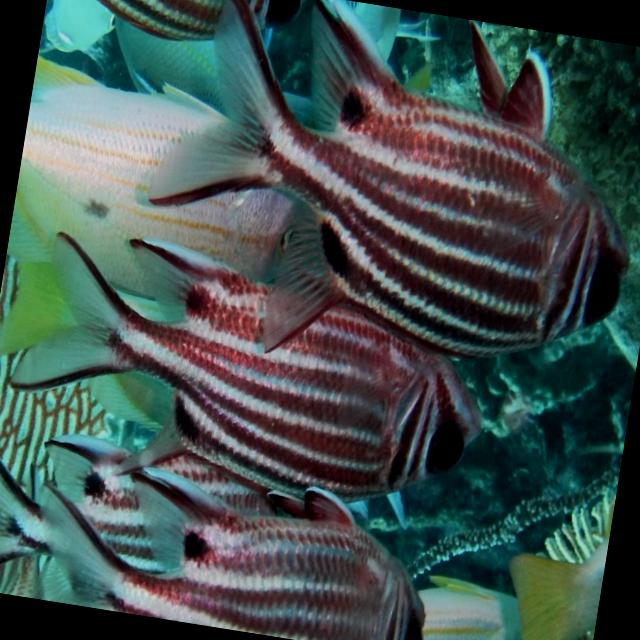Asker Baligi: (125, 0, 640, 400), (0, 219, 505, 539), (0, 473, 441, 640)
